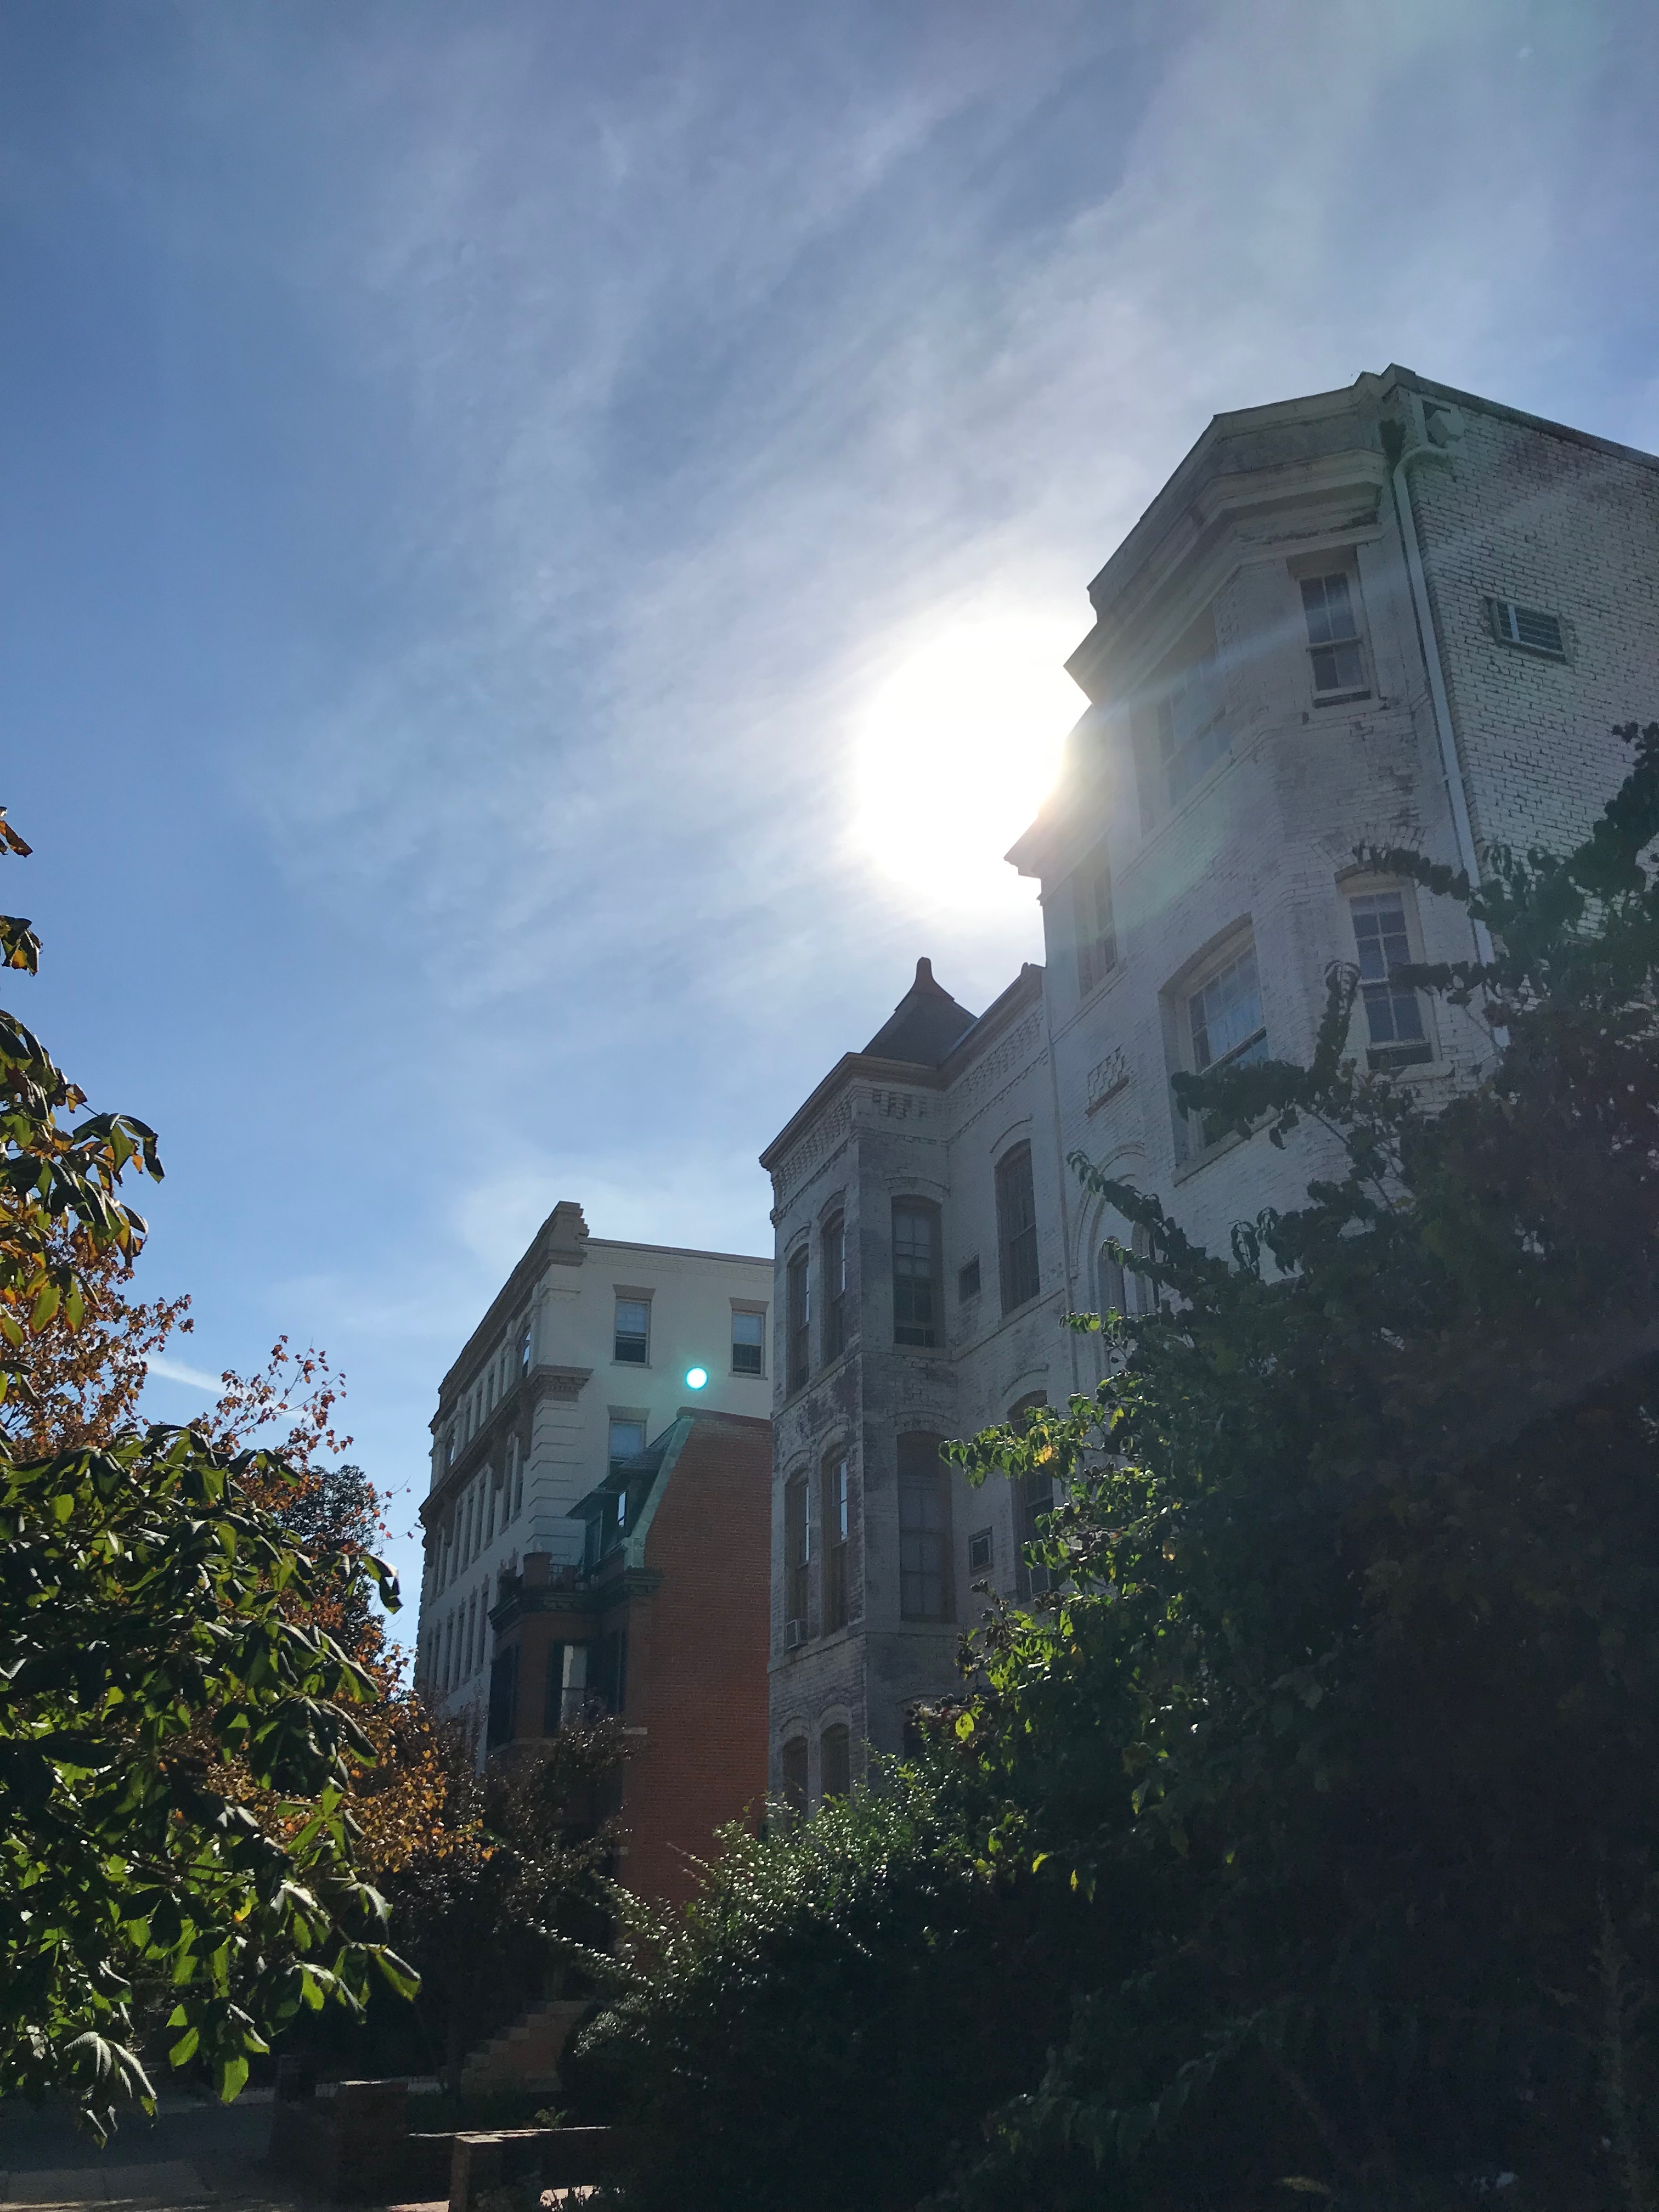flare: (683, 1366, 711, 1392)
